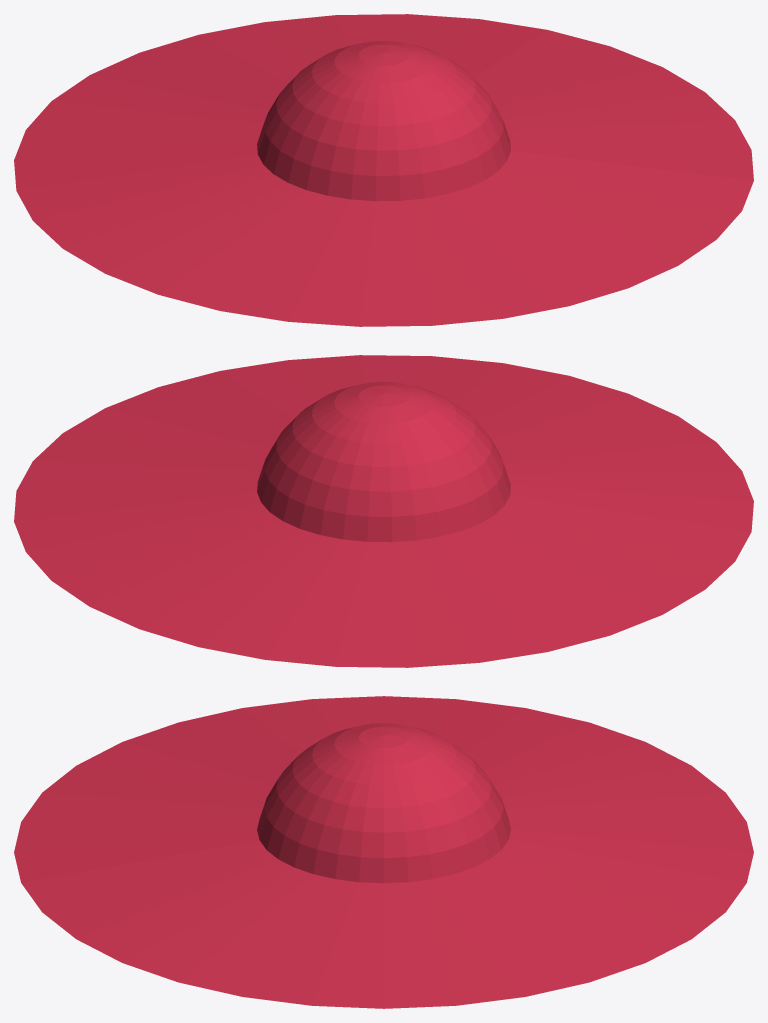
File: enemy.glb
3 views of the same model, one above another, from view 1: azimuth 30°, elevation 25°; view 2: azimuth 150°, elevation 25°; view 3: azimuth 270°, elevation 25° (orthographic).
Visible parts, largest first — view 1: Sphere; view 2: Sphere; view 3: Sphere.
Boxes of the visible parts, <box> form: Sphere: <box>14,14,753,326</box>; Sphere: <box>14,355,753,667</box>; Sphere: <box>14,696,753,1008</box>.
Size of the model in its own units: 5.72 by 2 by 5.72.
